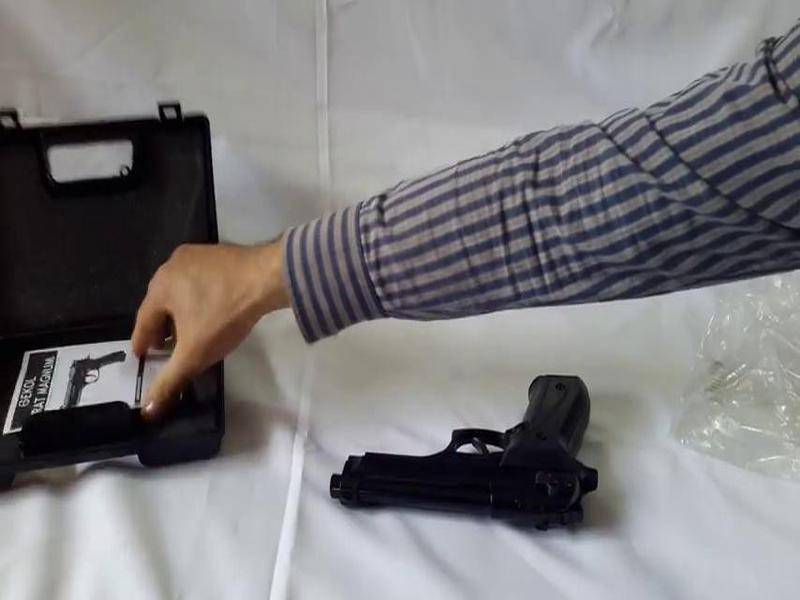Pistola: (285, 346, 611, 585)
